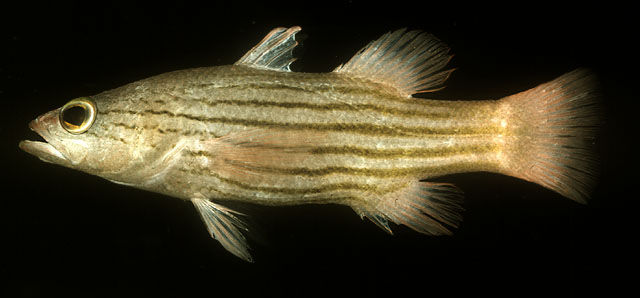fish: (17, 23, 595, 263)
